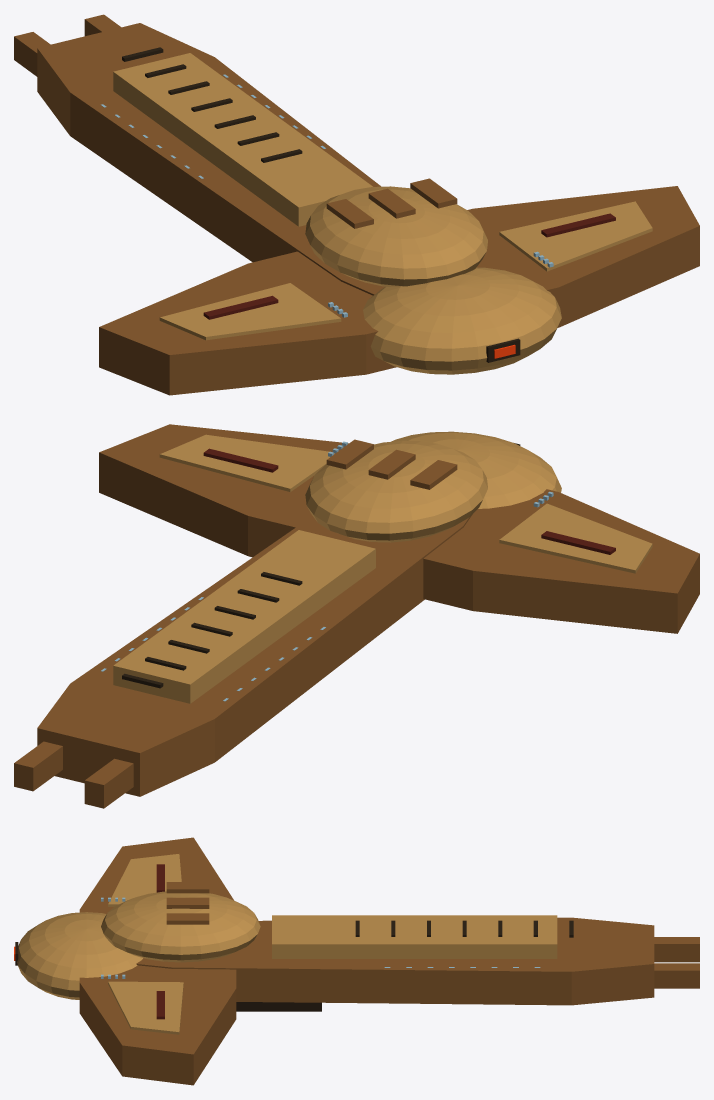
File: cardassian-cruiser_LOD1.obj
The picture shows the model from 3 angles, top to bottom: view 1: azimuth 30°, elevation 25°; view 2: azimuth 150°, elevation 25°; view 3: azimuth 270°, elevation 25°; orthographic projection. The views are drawn at different scales.
Visible parts, largest first — view 1: Broad_Shoulders, Long_Spine, Dorsal_Spine, Forward_Command_Head, Layered_Bridge, Shoulder_Plates, Bridge_Caps, Spine_Ribs, Aft_Fork, Inset_Bands; view 2: Broad_Shoulders, Long_Spine, Dorsal_Spine, Layered_Bridge, Shoulder_Plates, Forward_Command_Head, Aft_Fork, Bridge_Caps, Spine_Ribs, Inset_Bands; view 3: Long_Spine, Broad_Shoulders, Dorsal_Spine, Layered_Bridge, Forward_Command_Head, Shoulder_Plates, Aft_Fork, Bridge_Caps, Ventral_Keel, Spine_Ribs, Inset_Bands.
Part boxes in pixels (left/top/right/bottom): Broad_Shoulders: left=99, top=186, right=699, bottom=395; Long_Spine: left=37, top=23, right=385, bottom=295; Dorsal_Spine: left=113, top=53, right=372, bottom=226; Forward_Command_Head: left=363, top=267, right=561, bottom=374; Layered_Bridge: left=305, top=186, right=487, bottom=286; Shoulder_Plates: left=159, top=201, right=652, bottom=340; Bridge_Caps: left=326, top=178, right=457, bottom=228; Spine_Ribs: left=122, top=47, right=302, bottom=162; Aft_Fork: left=14, top=14, right=120, bottom=76; Inset_Bands: left=203, top=213, right=615, bottom=319; Broad_Shoulders: left=99, top=424, right=699, bottom=633; Long_Spine: left=37, top=514, right=472, bottom=796; Dorsal_Spine: left=113, top=530, right=375, bottom=703; Layered_Bridge: left=305, top=440, right=487, bottom=542; Shoulder_Plates: left=159, top=434, right=652, bottom=573; Forward_Command_Head: left=391, top=431, right=561, bottom=508; Aft_Fork: left=14, top=741, right=133, bottom=808; Bridge_Caps: left=326, top=439, right=457, bottom=489; Spine_Ribs: left=122, top=572, right=302, bottom=688; Inset_Bands: left=203, top=448, right=615, bottom=554; Long_Spine: left=136, top=917, right=654, bottom=1005; Broad_Shoulders: left=79, top=837, right=236, bottom=1085; Dorsal_Spine: left=272, top=915, right=557, bottom=958; Layered_Bridge: left=101, top=891, right=260, bottom=962; Forward_Command_Head: left=17, top=912, right=142, bottom=999; Shoulder_Plates: left=108, top=854, right=183, bottom=1034; Aft_Fork: left=654, top=937, right=699, bottom=988; Bridge_Caps: left=166, top=882, right=209, bottom=924; Ventral_Keel: left=236, top=1002, right=321, bottom=1011; Spine_Ribs: left=355, top=920, right=573, bottom=937; Inset_Bands: left=156, top=864, right=164, bottom=1019.
Size of the model in its own units: 360 by 75 by 481.
